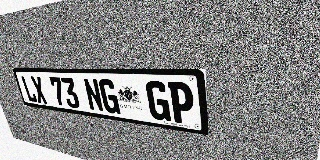3: (60, 77, 81, 109)
7: (48, 77, 68, 107)
G: (145, 81, 171, 122), (98, 79, 121, 115)
L: (20, 76, 38, 103)
N: (83, 78, 104, 112)
P: (168, 82, 195, 125)
X: (30, 76, 48, 104)
